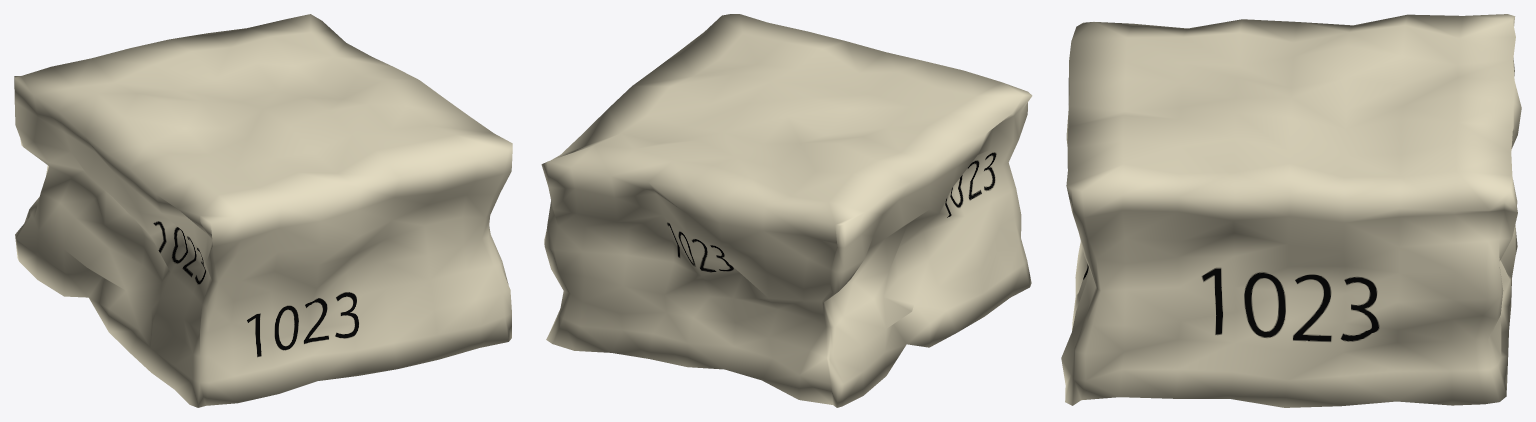
File: CTB_1023.dae
The picture shows the model from 3 angles, left to right: view 1: azimuth 30°, elevation 25°; view 2: azimuth 150°, elevation 25°; view 3: azimuth 270°, elevation 25°; orthographic projection. The views are drawn at different scales.
Visible parts, largest first — view 1: Cube; view 2: Cube; view 3: Cube.
Part boxes in pixels (<box>): Cube: <box>14,14,512,407</box>; Cube: <box>541,14,1032,407</box>; Cube: <box>1061,14,1521,407</box>.
Size of the model in its own units: 1.85 by 2.05 by 1.18.
1 material, 1 textured.
